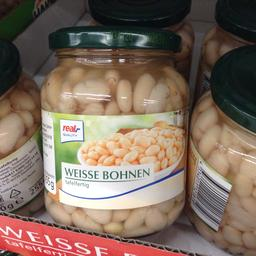beans: (42, 20, 188, 236), (193, 36, 255, 242)
